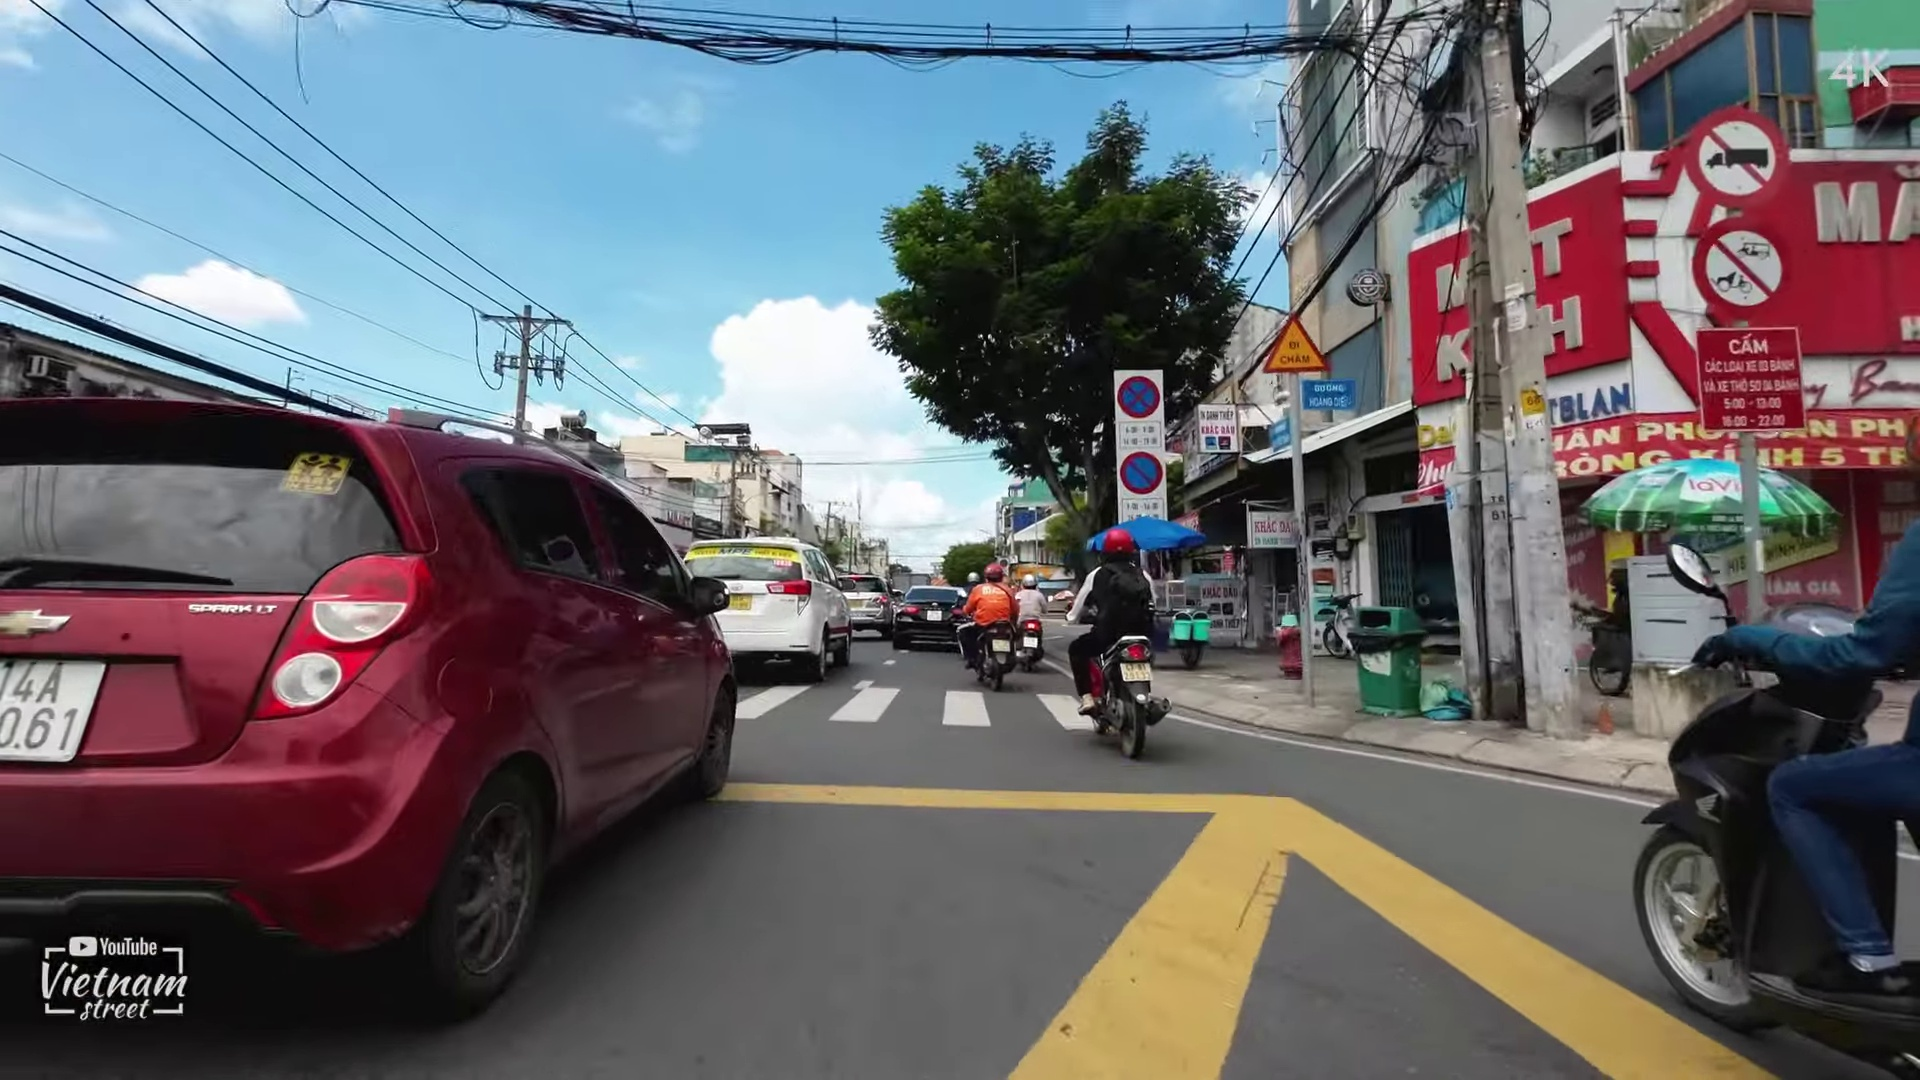cam_do_xe: (1120, 448, 1163, 496)
di_cham: (1259, 309, 1332, 376)
